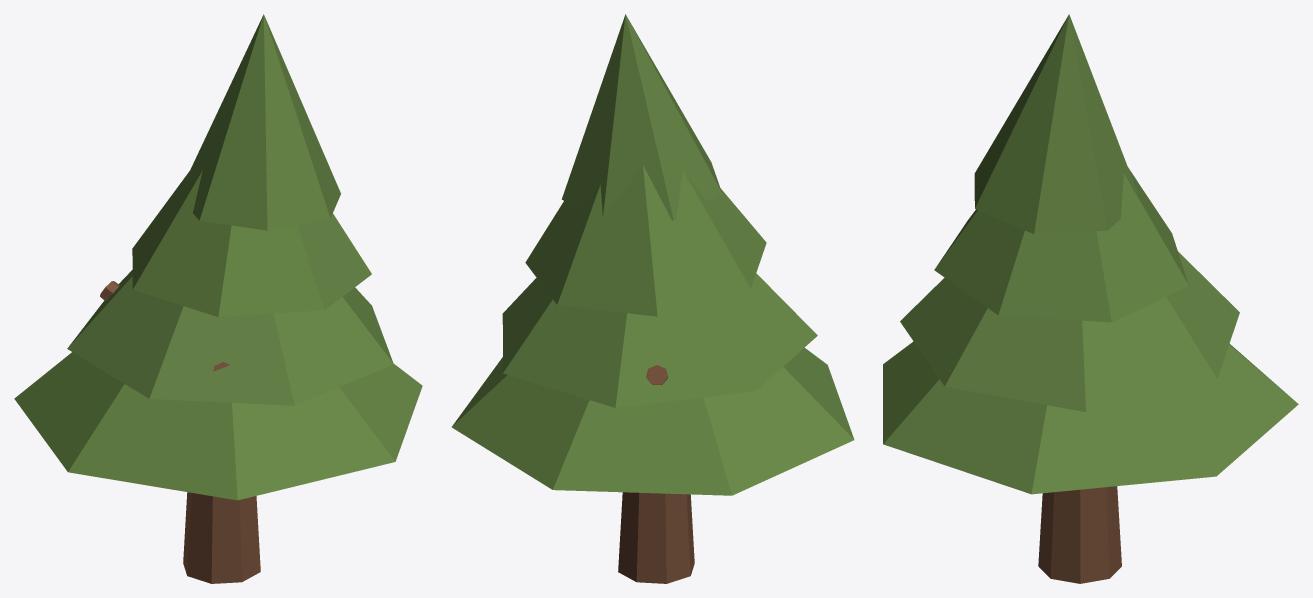
The model's file is tree_medium_b.glb.
3 views of the same model, side by side, from view 1: azimuth 30°, elevation 25°; view 2: azimuth 150°, elevation 25°; view 3: azimuth 270°, elevation 25° (orthographic). The views are drawn at different scales.
Parts seen in each view (by area): view 1: tree_medium_b; view 2: tree_medium_b; view 3: tree_medium_b.
Part boxes in pixels (bbox=[...]): tree_medium_b: bbox=[14, 14, 422, 583]; tree_medium_b: bbox=[451, 14, 854, 583]; tree_medium_b: bbox=[883, 14, 1298, 583].
Bounding box in the file's own units: 4.4 × 6.5 × 4.29.
